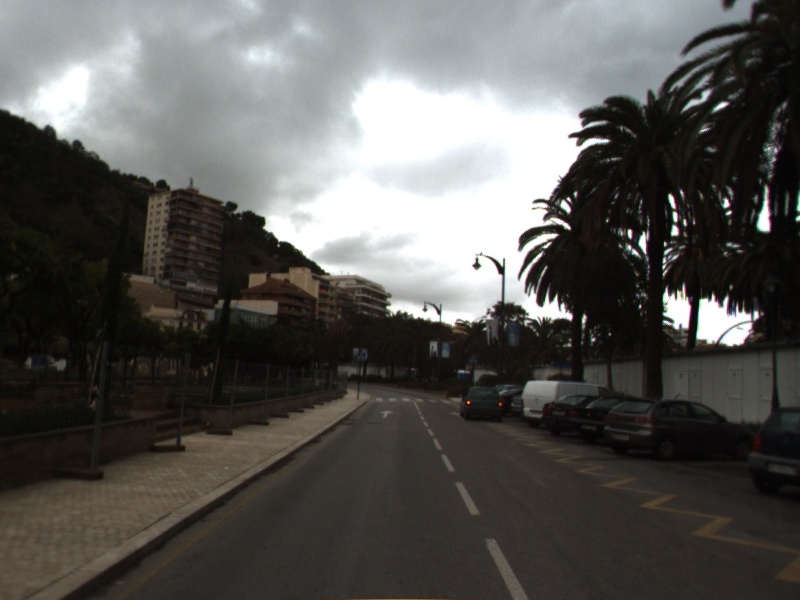STRAIGHT: (378, 408, 396, 419)
